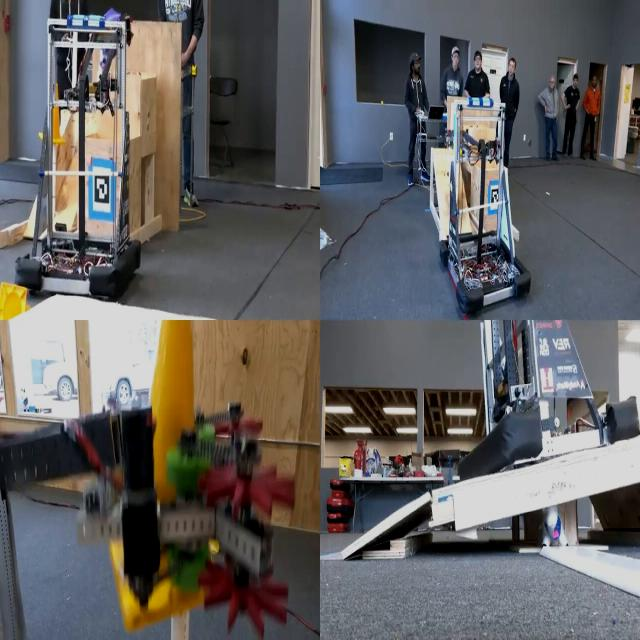frc_cone: (109, 307, 224, 640), (36, 81, 69, 148), (0, 276, 33, 326)
